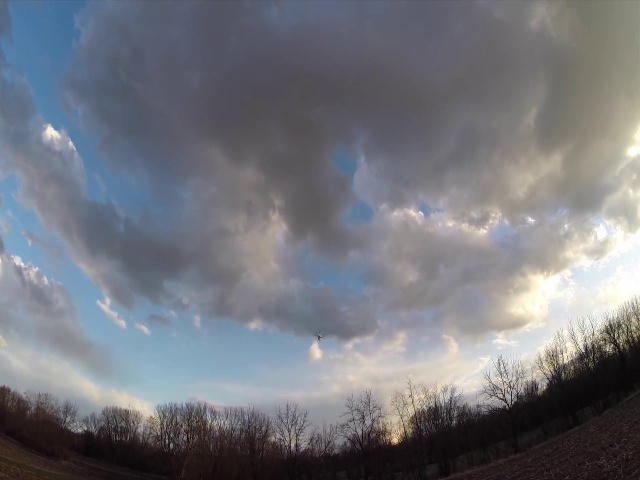drone: (313, 329, 326, 343)
